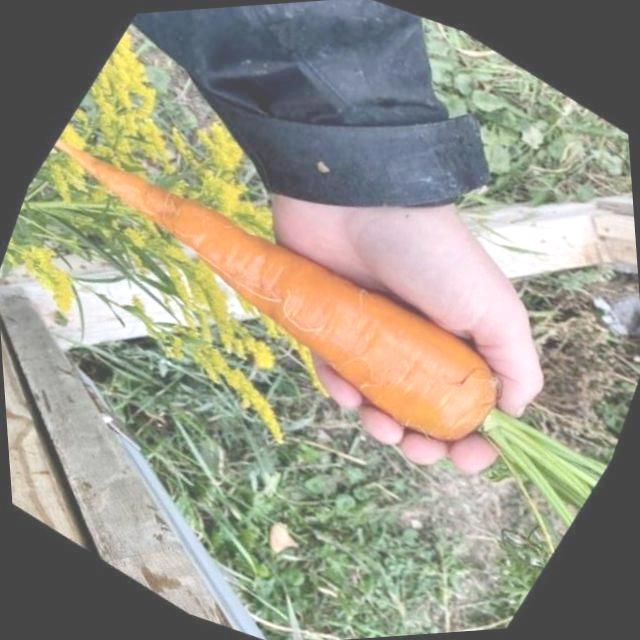carrot: (0, 59, 567, 504)
